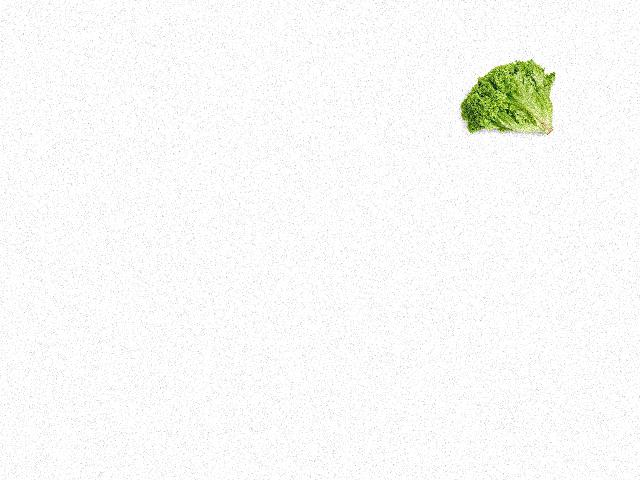lettuce: (455, 54, 559, 142)
